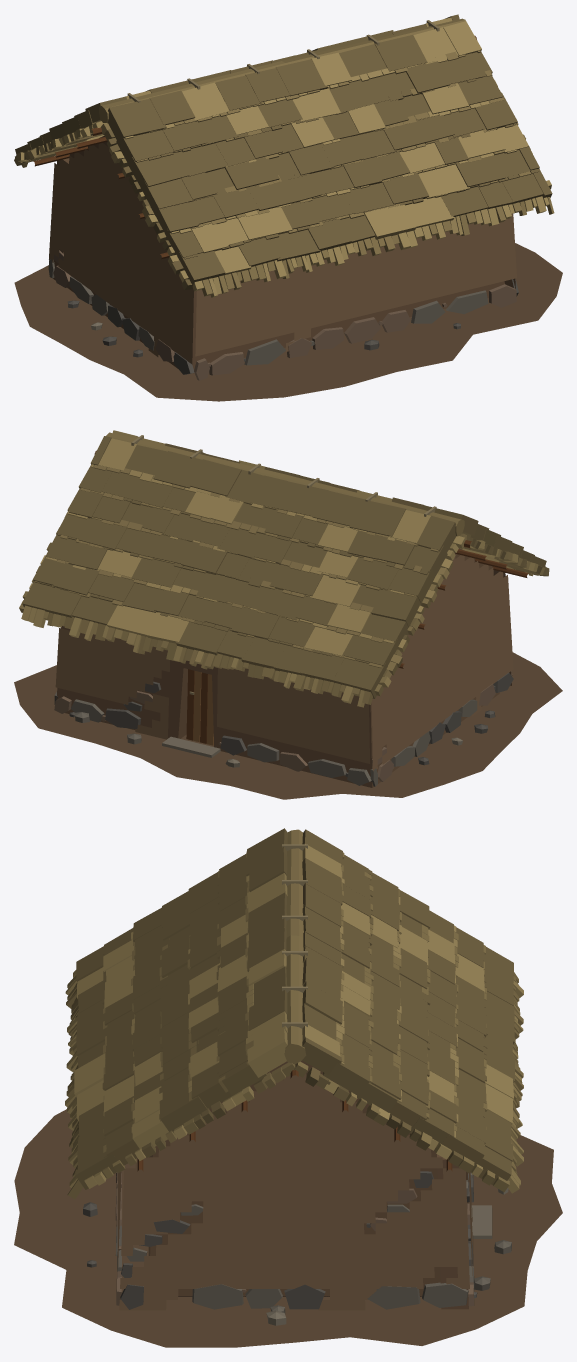
Rendered from pch_house_d.glb.
3 renders of one model, top to bottom at view 1: azimuth 30°, elevation 25°; view 2: azimuth 150°, elevation 25°; view 3: azimuth 270°, elevation 25°, orthographic. The views are drawn at different scales.
Visible parts, largest first — view 1: pch_house_d; view 2: pch_house_d; view 3: pch_house_d.
Part boxes in pixels (x1,y1,x2,y2): pch_house_d: (14,14,562,401); pch_house_d: (14,430,562,799); pch_house_d: (14,828,562,1347).
Size of what is drawn, in the model's own units: 9.84 by 4.74 by 8.43.
